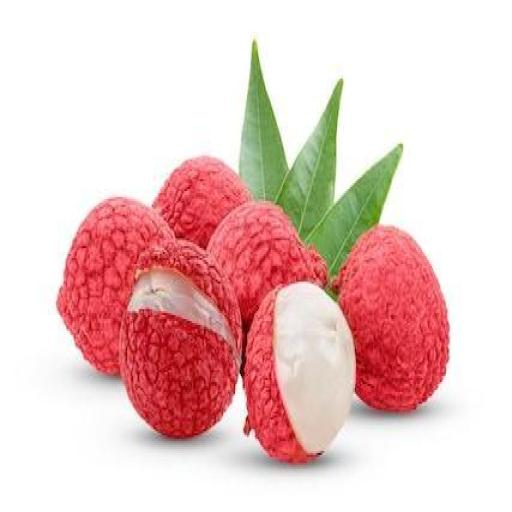lychee: (120, 241, 242, 437), (335, 227, 448, 411), (58, 197, 173, 374), (244, 282, 354, 462), (208, 201, 327, 328), (154, 156, 251, 248)
